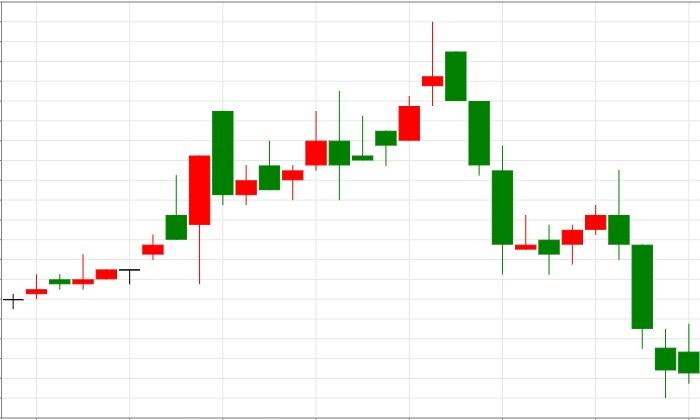three_black_crows_fall: (306, 21, 513, 275)
